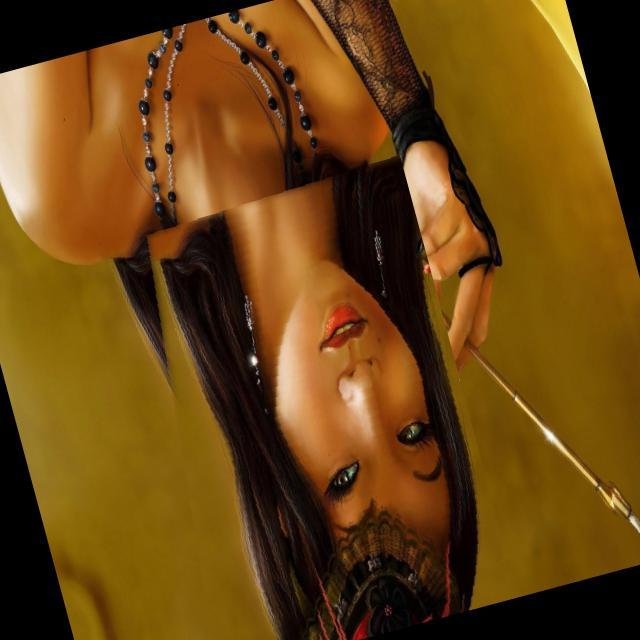cigarette: (606, 470, 640, 569)
